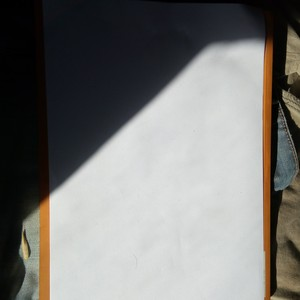base: (52, 9, 264, 299)
